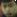without_mask: (1, 2, 17, 17)
